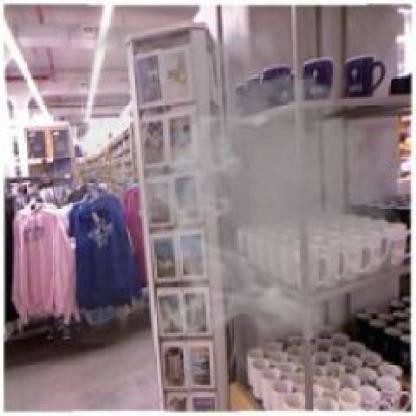Smoke: (54, 5, 414, 345)
